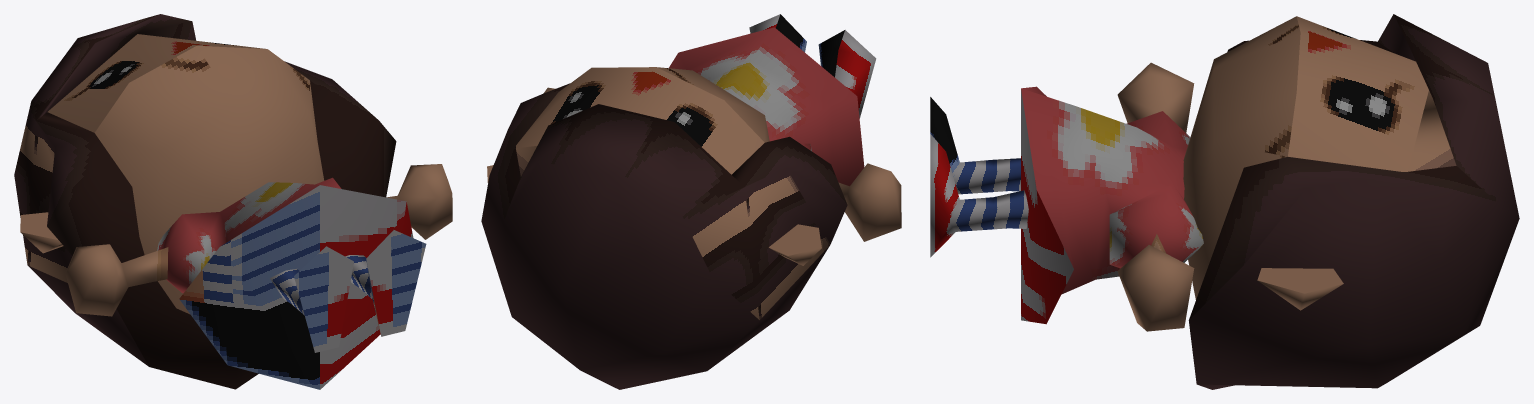
The model's file is villageoise.gltf.
3 views of the same model, side by side, from view 1: azimuth 30°, elevation 25°; view 2: azimuth 150°, elevation 25°; view 3: azimuth 270°, elevation 25° (orthographic). The views are drawn at different scales.
Parts seen in each view (by area): view 1: polygon0, polygon3, polygon2, polygon5, polygon4, polygon1; view 2: polygon0, polygon4, polygon1, polygon5, polygon3, polygon2; view 3: polygon0, polygon4, polygon2, polygon1, polygon3, polygon5.
Part boxes in pixels (x1=…): polygon0: x1=14, y1=14, x2=396, y2=389; polygon3: x1=179, y1=185, x2=426, y2=389; polygon2: x1=95, y1=45, x2=324, y2=314; polygon5: x1=65, y1=164, x2=452, y2=316; polygon4: x1=157, y1=177, x2=341, y2=293; polygon1: x1=47, y1=34, x2=265, y2=132; polygon0: x1=481, y1=83, x2=847, y2=389; polygon4: x1=669, y1=27, x2=864, y2=186; polygon1: x1=516, y1=67, x2=764, y2=174; polygon5: x1=543, y1=87, x2=901, y2=241; polygon3: x1=749, y1=14, x2=876, y2=118; polygon2: x1=656, y1=67, x2=769, y2=142; polygon0: x1=1188, y1=14, x2=1519, y2=389; polygon4: x1=1021, y1=86, x2=1203, y2=294; polygon2: x1=1183, y1=16, x2=1300, y2=299; polygon1: x1=1288, y1=16, x2=1428, y2=171; polygon3: x1=930, y1=90, x2=1073, y2=324; polygon5: x1=1117, y1=62, x2=1194, y2=331.
Size of the model in its own units: 9.52 by 7.5 by 11.22.
Materials: 6 (6 with a texture image).
